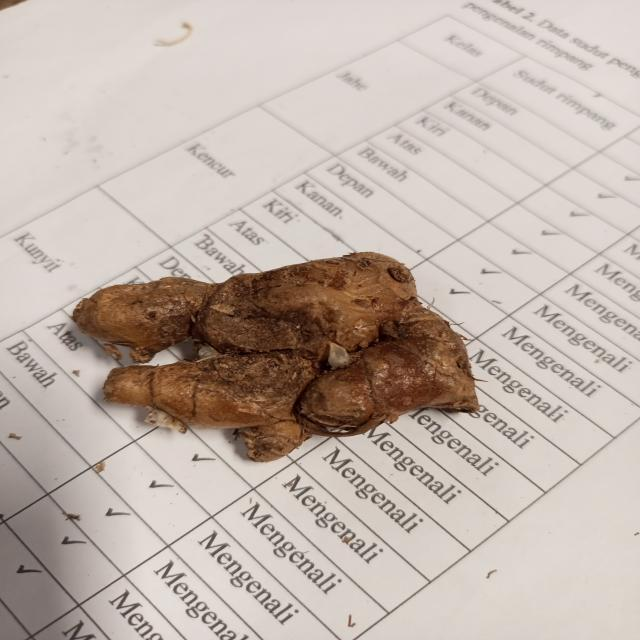ginger: (81, 252, 484, 444)
